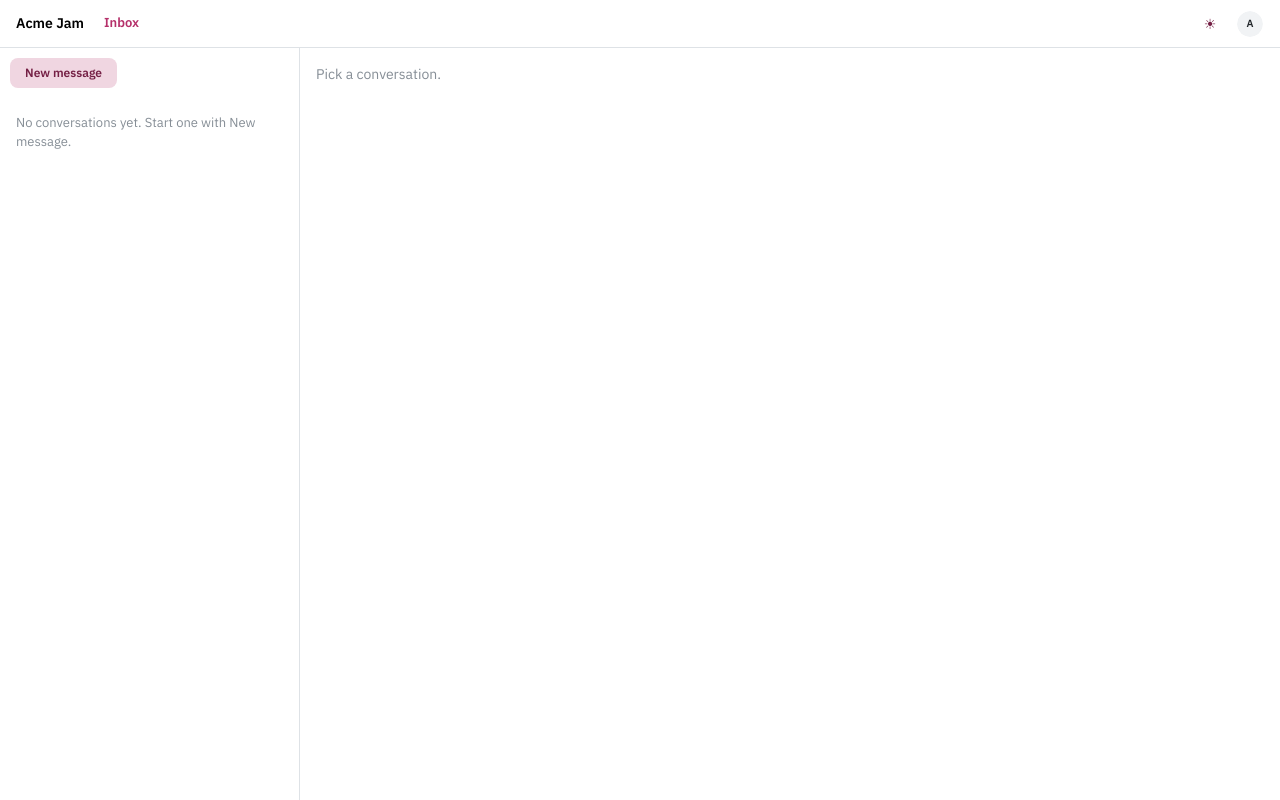
Test: the principal menu › has no Notifications item without Web Push
Click the button named "Account" at x=1250, y=24, box x1=1236 y1=10 x2=1264 y2=38
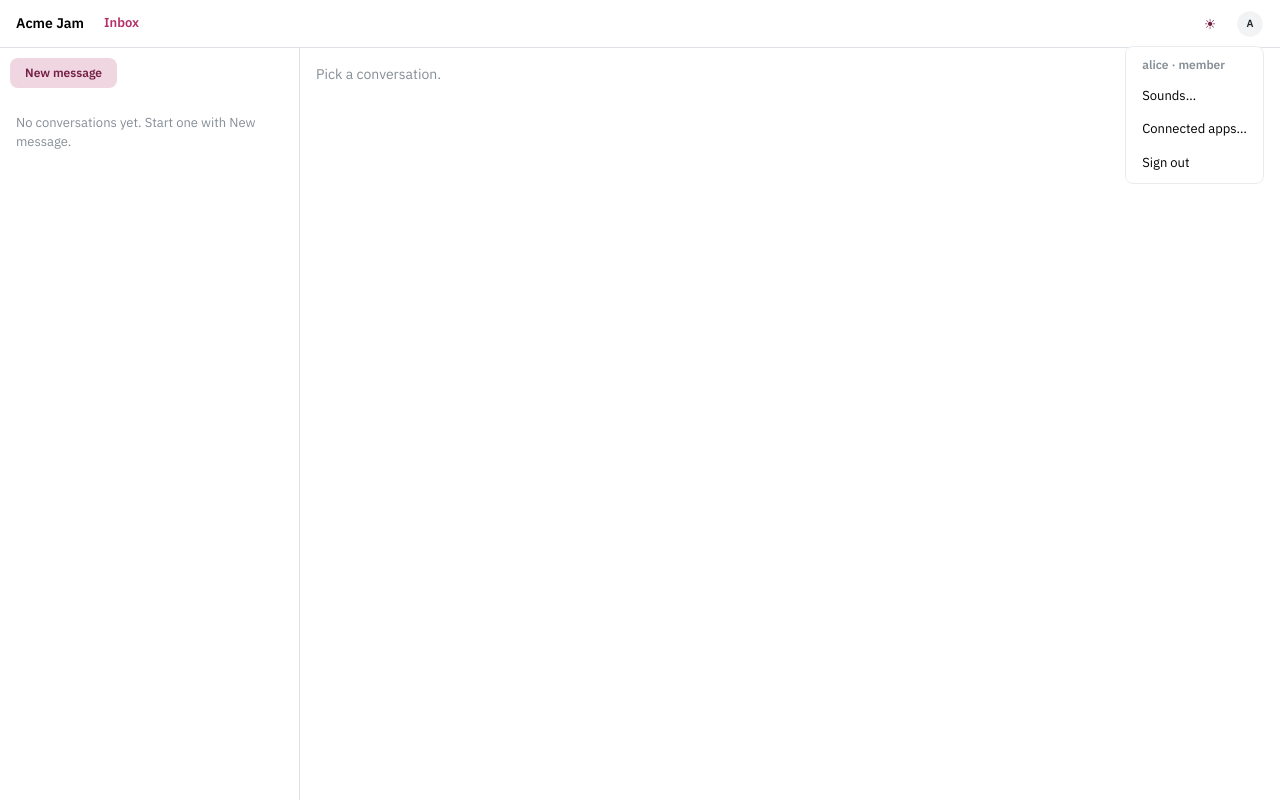
Now the menu item "Sounds…" is shown, box x1=1130 y1=79 x2=1259 y2=113
